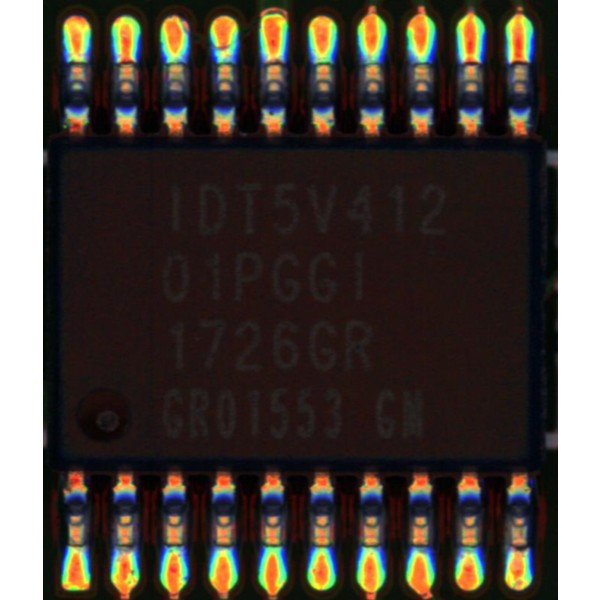Bad_podu: (115, 539, 134, 564), (464, 44, 477, 78), (512, 44, 526, 75), (120, 44, 132, 76), (511, 538, 525, 562)
